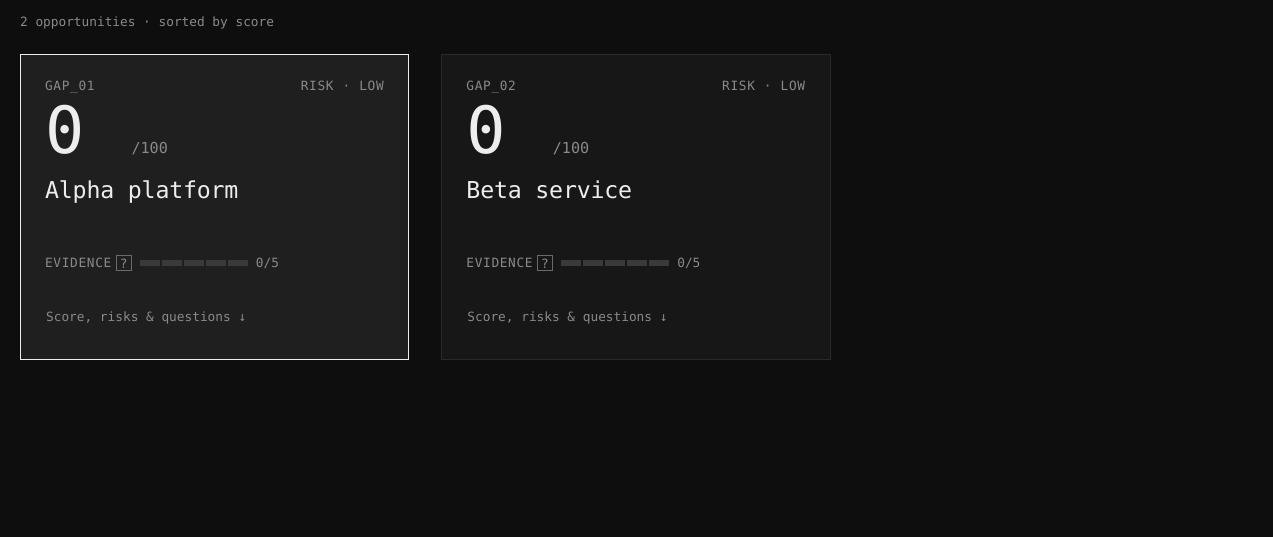
OpportunityBoard › opens one card’s details as a strip outside the cards and closes it again
Click the button "Score, risks & questions ↓" below "Alpha platform" at (154, 317), box 45,299 -> 263,335
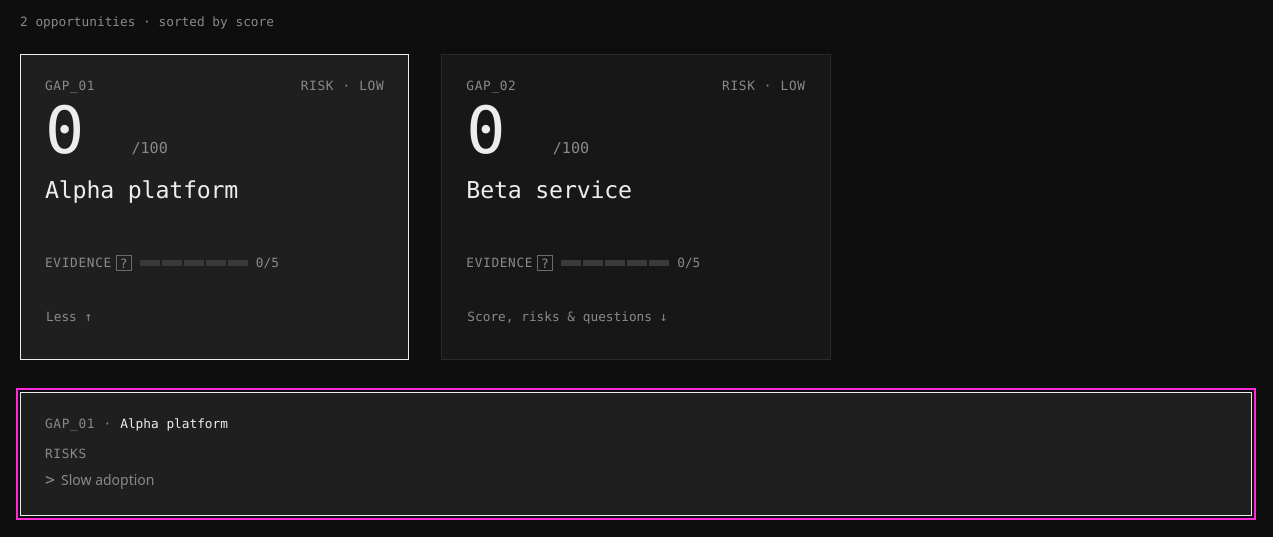
expect the element named "gap 1: score, risks and questions" shows "Slow adoption": met, box 61,470 -> 154,489
expect the button named "score, risks & questions" is expanded: met, box 45,299 -> 109,335
Click the button "Score, risks & questions ↓" at (575, 317), box 466,299 -> 684,335
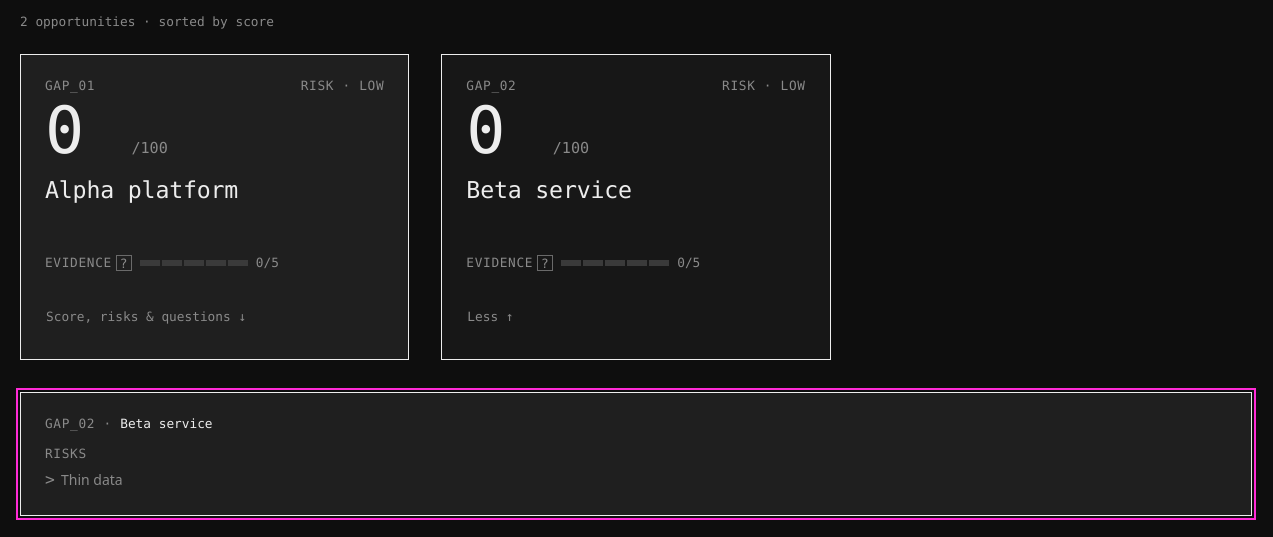
expect the element named "gap 2" shows "Thin data": met, box 61,470 -> 123,489
expect the number of elements with class "opp-detail" is 1: met, box 20,392 -> 1252,516
Click the button "Less ↑" at (498, 317), box 466,299 -> 530,335
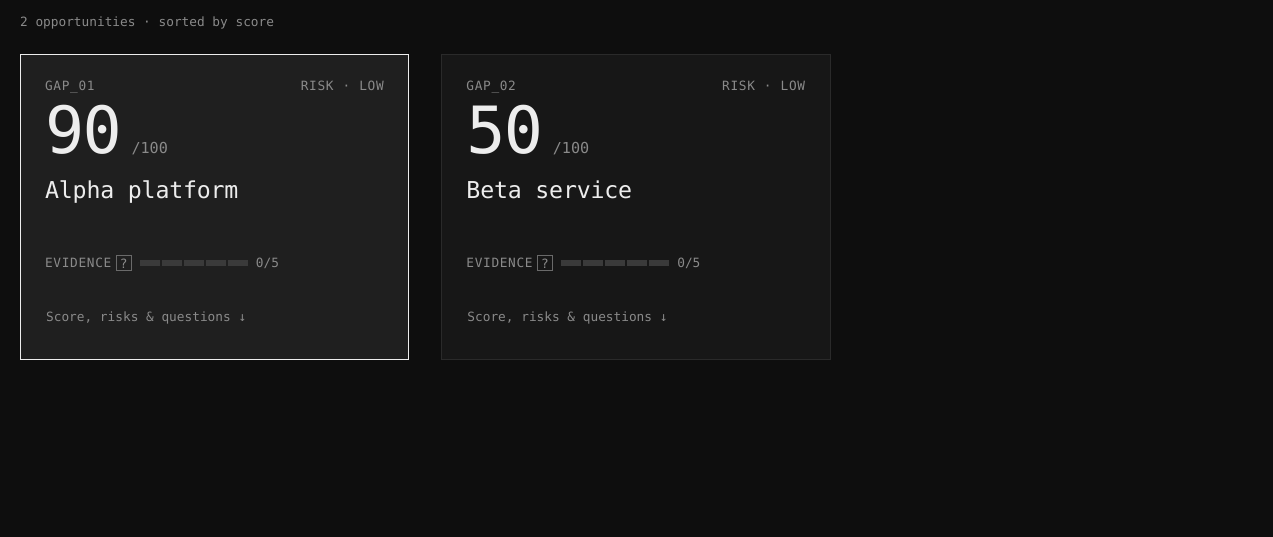
expect the element with class "opp-detail" is gone: met
